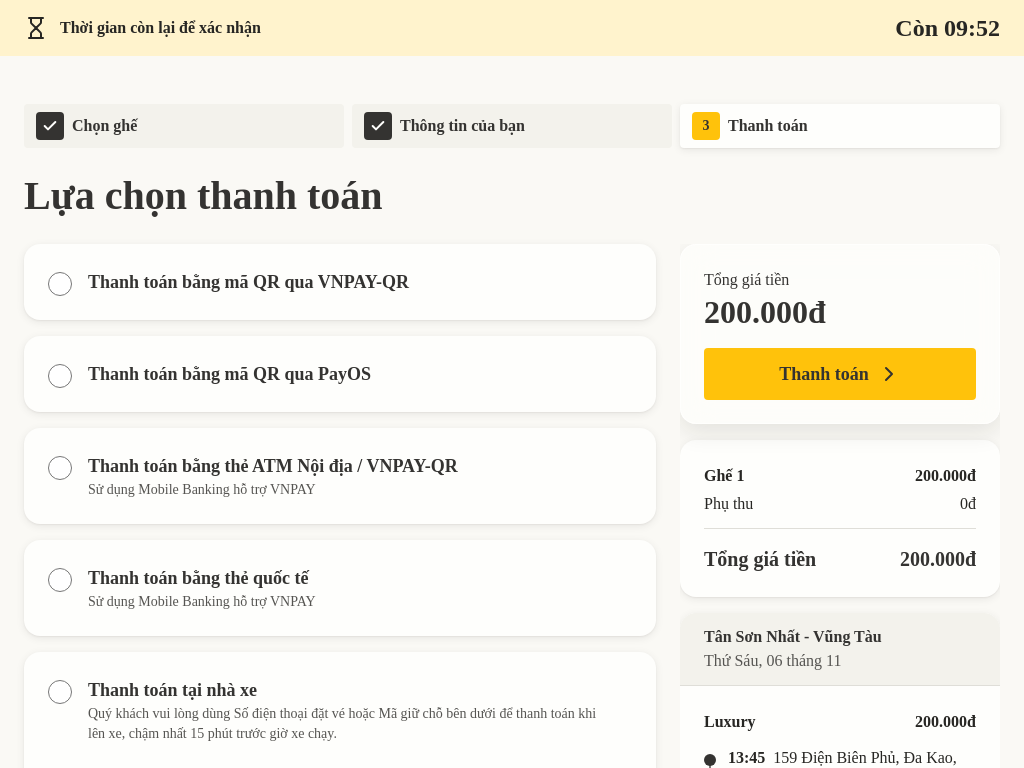
PaymentPage: chuyển sang cổng VNPay và PayOS › url cổng không phải https bị từ chối: không chuyển trang, báo lỗi
What coordinates should you click on to do the following:
click the radio button labelled "Thanh toán bằng mã QR qua VNPAY-QR"
I would click on:
 (60, 284)
Its box is top-left (48, 272), bottom-right (72, 296).
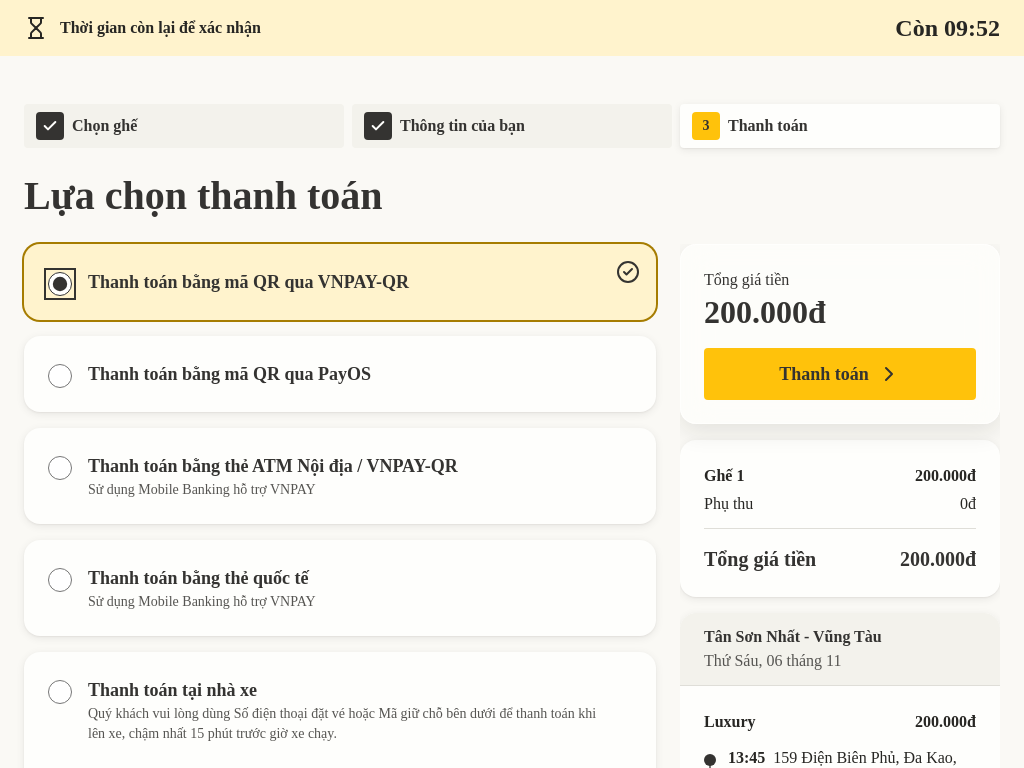
What coordinates should you click on to do the following:
click the button "Thanh toán"
I would click on:
 (840, 374)
Its box is top-left (704, 348), bottom-right (976, 400).
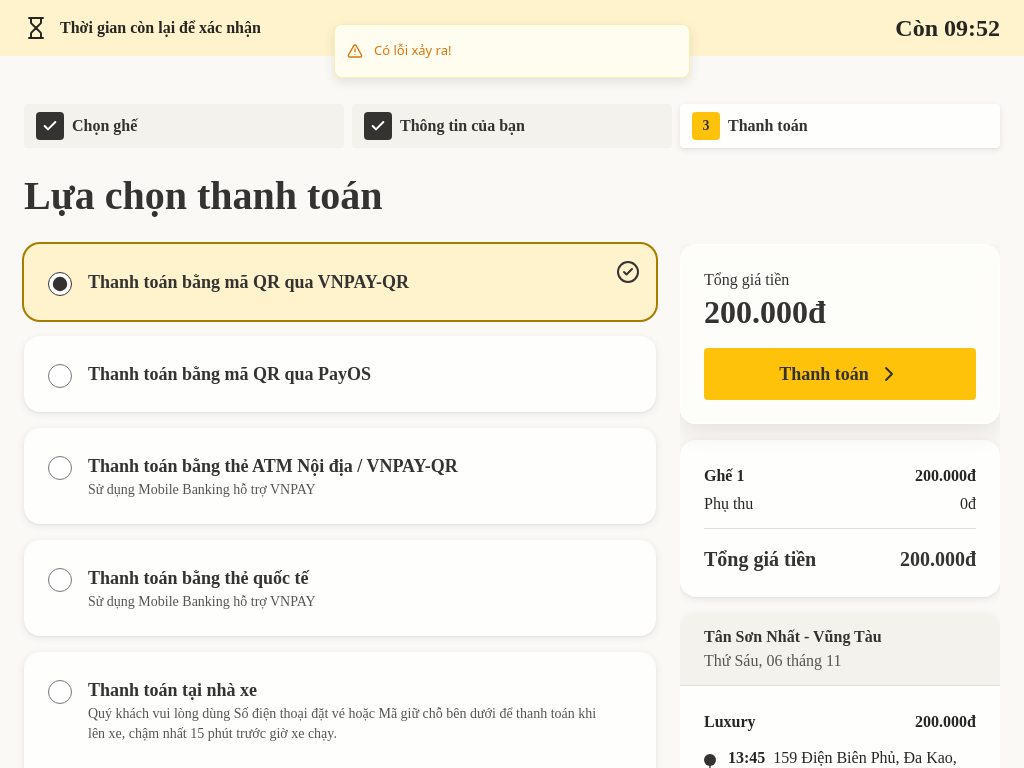
Check: the text "Có lỗi xảy ra!" is shown, box top-left (374, 41), bottom-right (452, 60)
